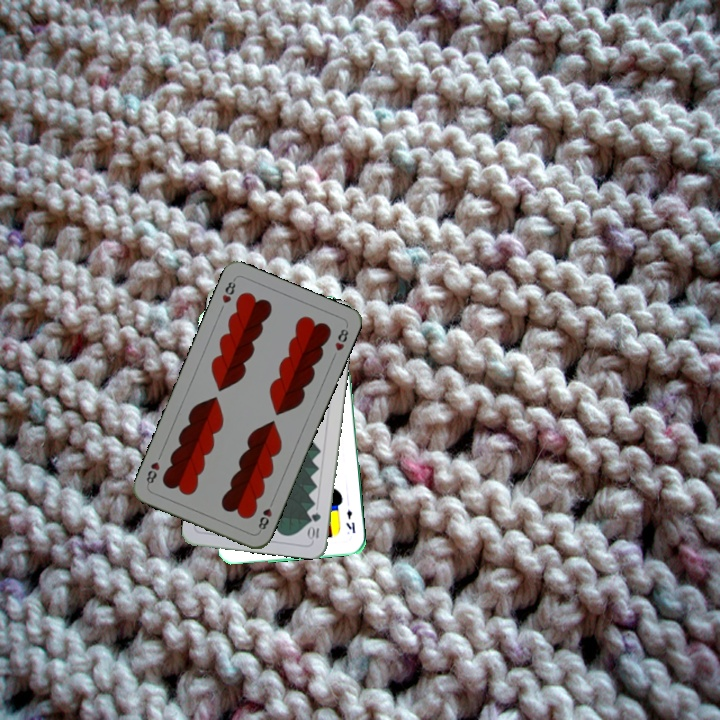EK: (342, 506, 357, 536)
G10: (305, 508, 323, 543)
H8: (254, 496, 276, 534), (218, 275, 238, 306)
